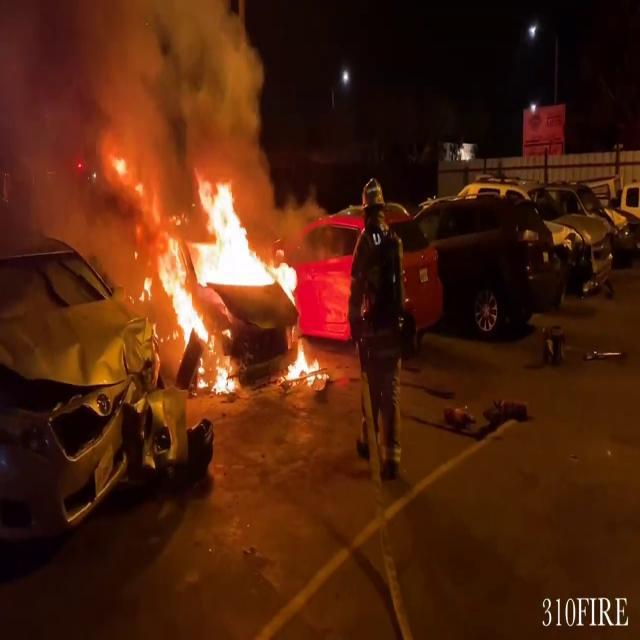Fire: (158, 171, 324, 393), (282, 334, 328, 388)
Smoke: (0, 0, 283, 214)
